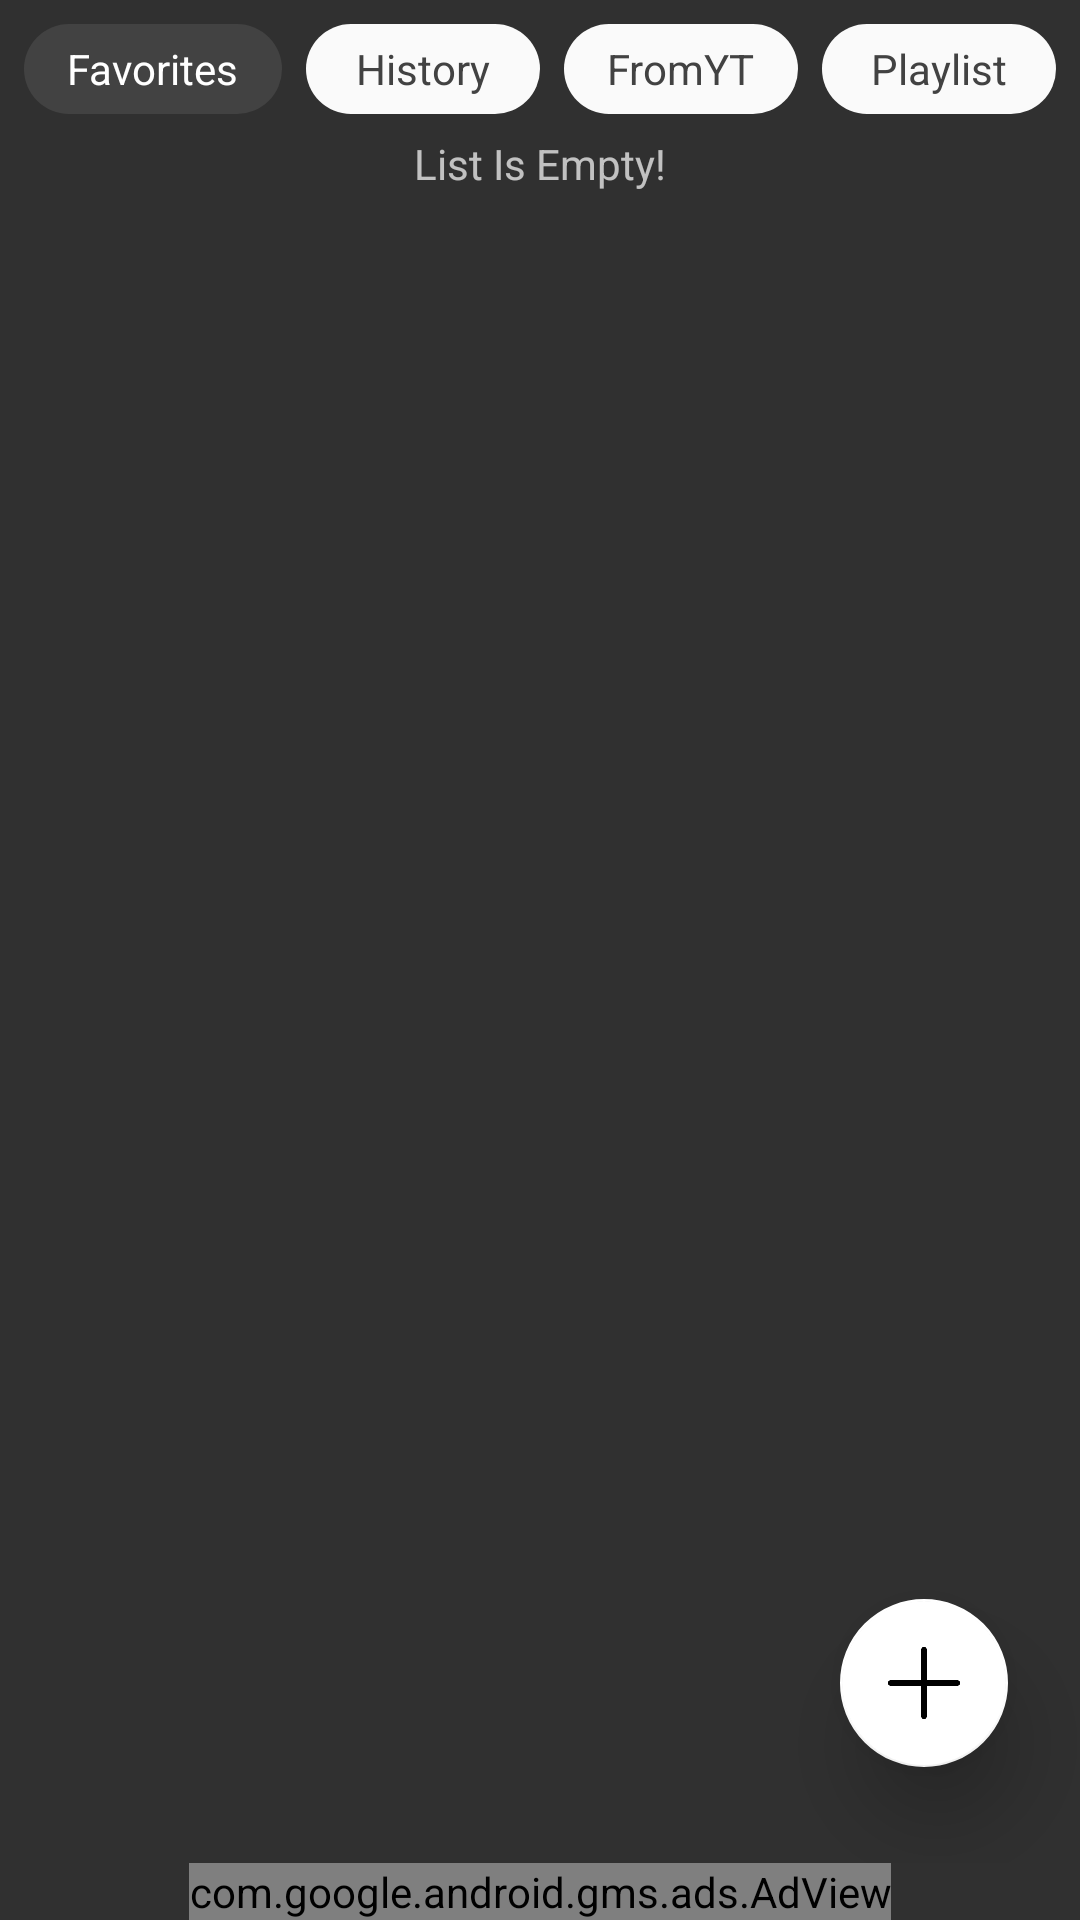

Screen size 1080*1920. Icon name, then its box in pixels as [x1,y1,x2,y2]:
plus: [840,1599,1008,1767]
